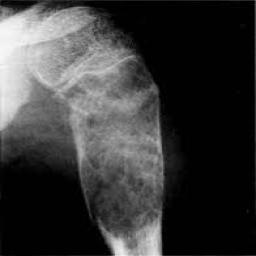cancer: (59, 56, 162, 252)
